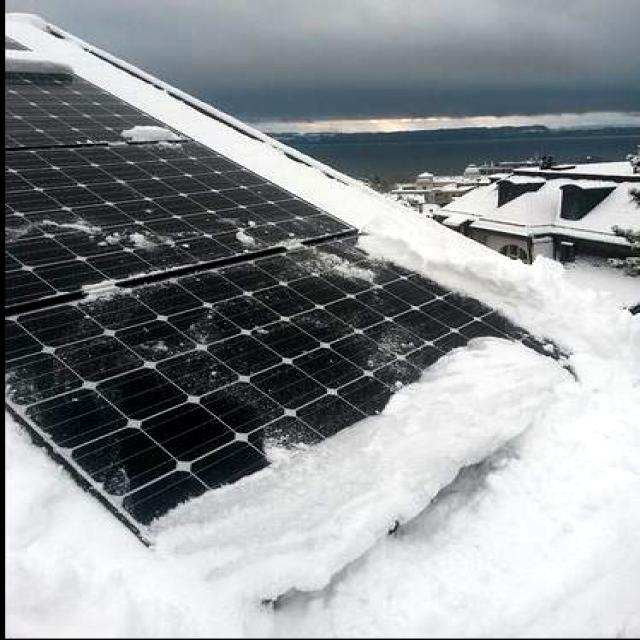panel: (112, 464, 378, 580), (326, 369, 600, 461), (15, 182, 160, 327), (230, 198, 374, 302), (428, 282, 569, 365), (389, 207, 499, 287), (106, 100, 206, 152)
